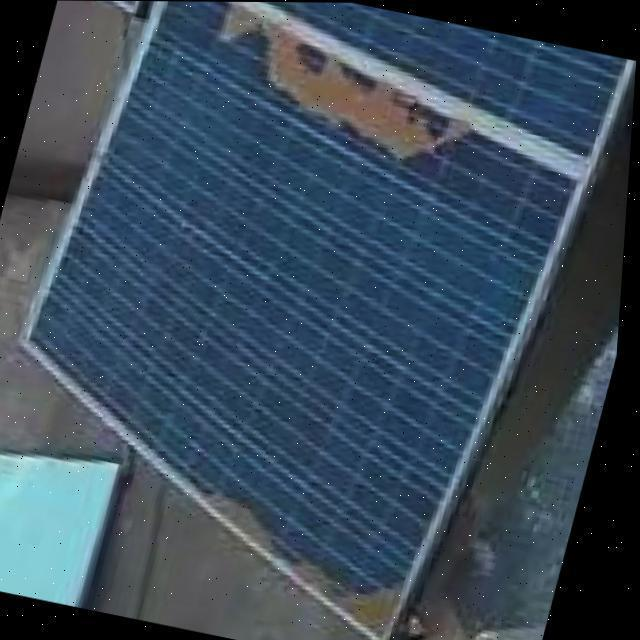Anomaly Solar Panel: (0, 1, 627, 640)
Surface Contaminant: (195, 1, 475, 185), (183, 483, 418, 640)
